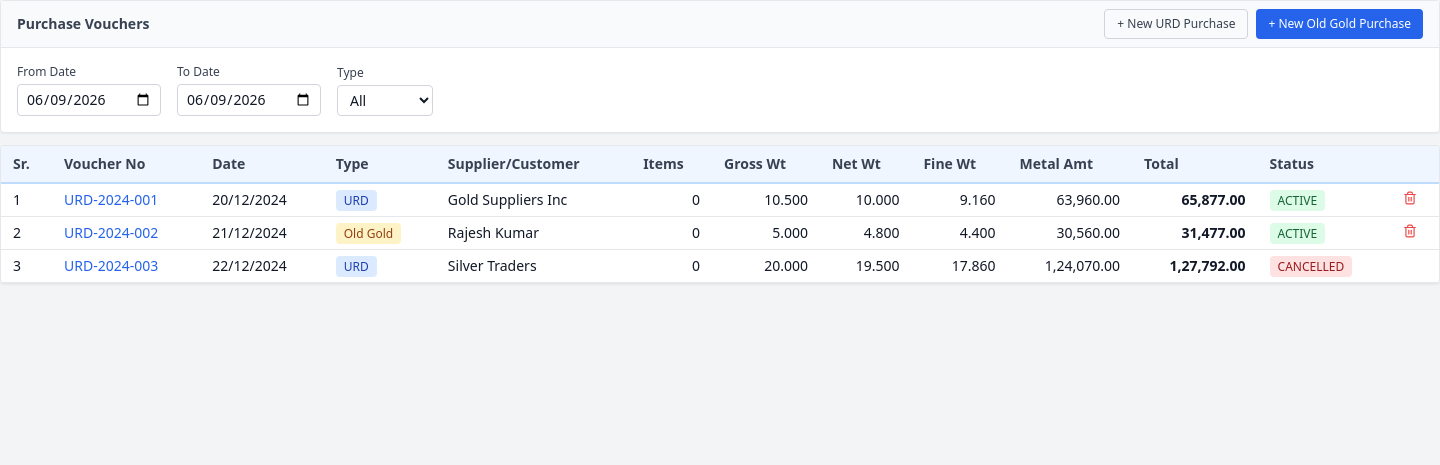
Scenario: PurchaseURD › Navigation to Form › switches to form view with Old Gold type when New Old Gold Purchase is clicked
The image size is (1440, 465).
Click the button "+ New Old Gold Purchase": [1340, 24] box [1256,9,1423,39]
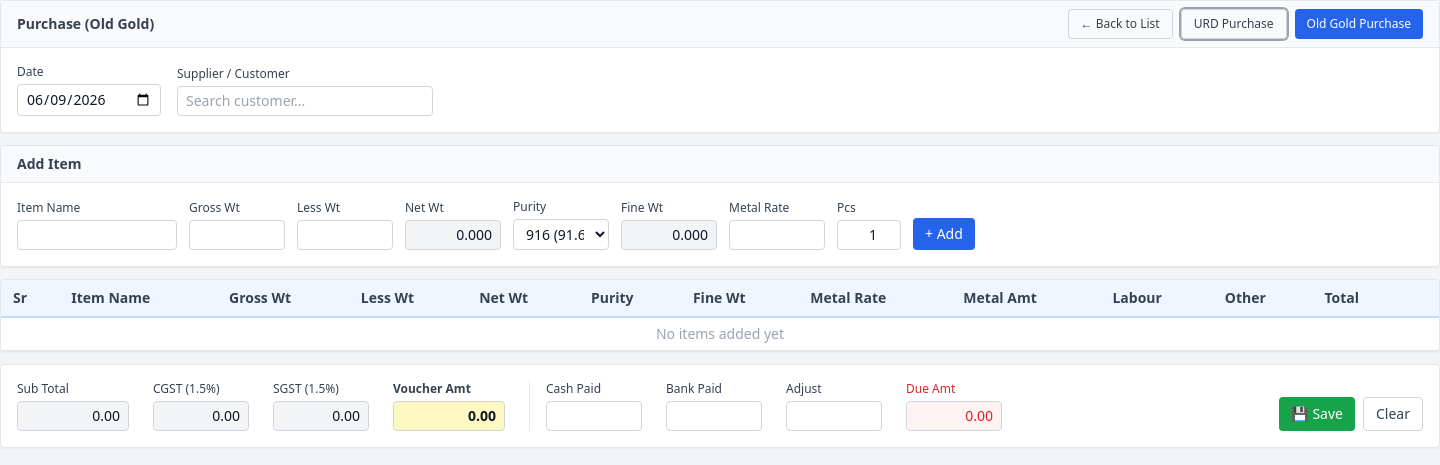
Check: the text "Purchase (Old Gold)" is shown, box [17,14,154,34]
